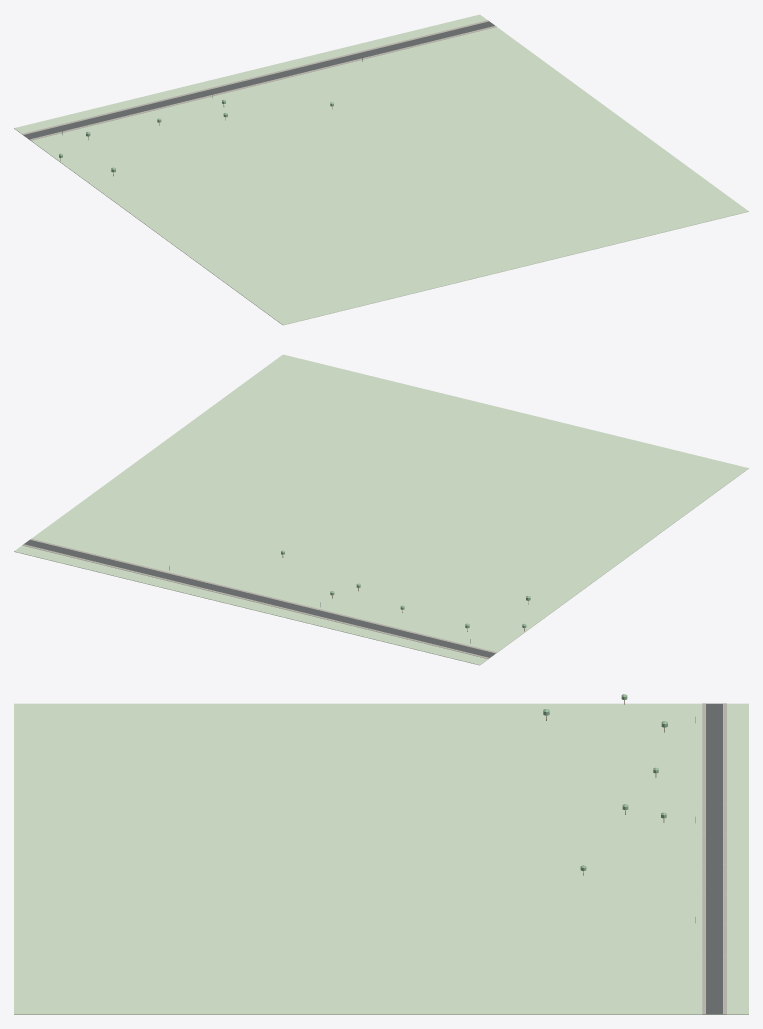
File: chunk_3_2_low.glb
The picture shows the model from 3 angles, top to bottom: view 1: azimuth 30°, elevation 25°; view 2: azimuth 150°, elevation 25°; view 3: azimuth 270°, elevation 25°; orthographic projection. The views are drawn at different scales.
Visible parts, largest first — view 1: city_grass, city_world_asphalt, city_world_sidewalk, city_curb; view 2: city_grass, city_world_asphalt, city_world_sidewalk, city_curb; view 3: city_grass, city_world_asphalt, city_world_sidewalk, city_curb.
Boxes of the visible parts, left/top/right/bottom form: city_grass: left=14, top=14, right=748, bottom=325; city_world_asphalt: left=24, top=21, right=494, bottom=139; city_world_sidewalk: left=22, top=20, right=496, bottom=140; city_curb: left=23, top=21, right=492, bottom=138; city_grass: left=14, top=354, right=748, bottom=665; city_world_asphalt: left=24, top=540, right=495, bottom=657; city_world_sidewalk: left=22, top=538, right=496, bottom=658; city_curb: left=27, top=539, right=495, bottom=657; city_grass: left=14, top=703, right=748, bottom=1014; city_world_asphalt: left=706, top=703, right=722, bottom=1014; city_world_sidewalk: left=702, top=703, right=726, bottom=1014; city_curb: left=702, top=703, right=726, bottom=1013.
Size of the model in its own units: 513 by 9.59 by 512.
